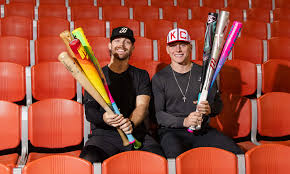baseball bat: (56, 51, 142, 147), (61, 31, 134, 144), (71, 25, 134, 144), (189, 19, 245, 129), (194, 9, 231, 126), (193, 9, 217, 121)
